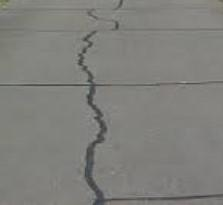crack: (68, 1, 128, 205)
